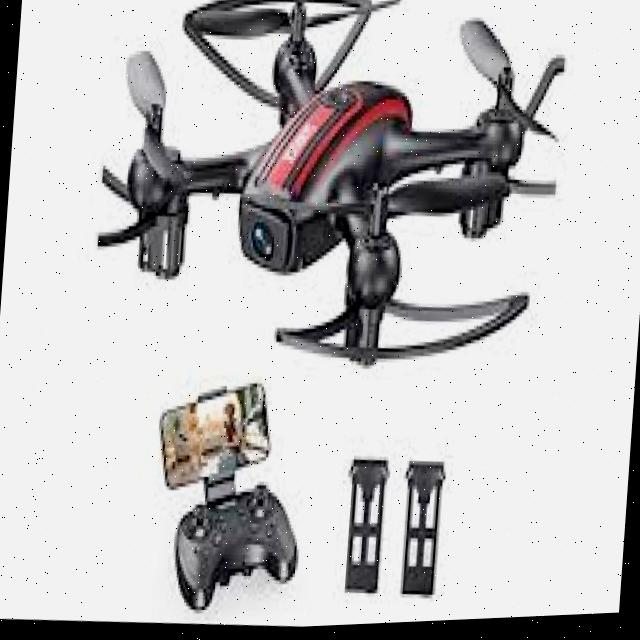drone: (67, 0, 607, 414)
